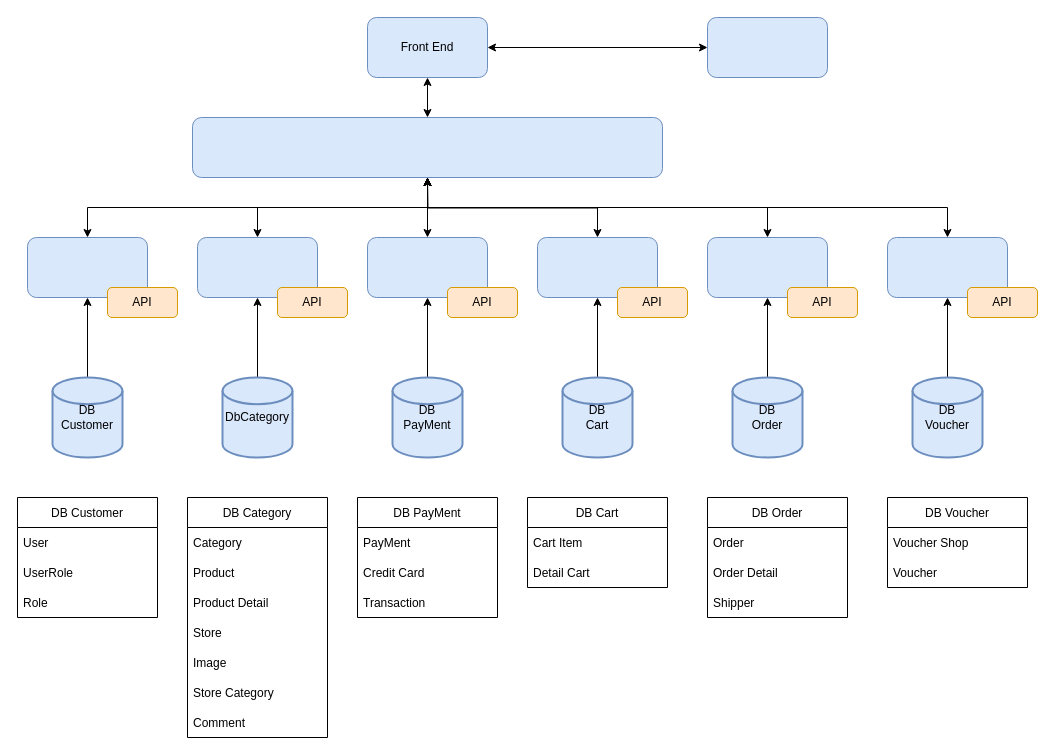
The diagram is 1055 pixels wide and 755 high, and some of its shapes have lost their labels. Here are the shapes that lost their labels. From the top down, the centre of each, then its label:
(x=767, y=47): Auth - Service
(x=427, y=147): agent-portal-gateway
(x=87, y=267): Customer Service
(x=257, y=267): Category Service
(x=427, y=267): PayMent Service
(x=597, y=267): Cart Service
(x=767, y=267): Order Service
(x=947, y=267): Voucher Service
